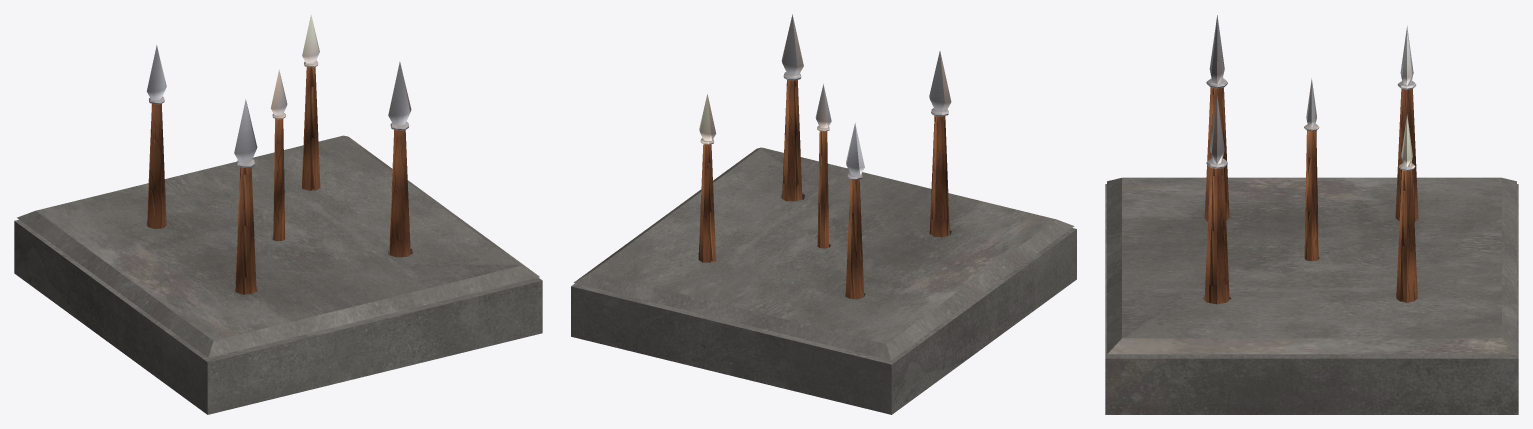
Rendered from Trap_2.fbx.
3 renders of one model, left to right at view 1: azimuth 30°, elevation 25°; view 2: azimuth 150°, elevation 25°; view 3: azimuth 270°, elevation 25°, orthographic. The views are drawn at different scales.
Parts seen in each view (by area): view 1: Box003, Object001; view 2: Box003, Object001; view 3: Box003, Object001.
Boxes of the visible parts, box(x1,y1,x2,y2) form: Box003: box(14, 135, 542, 414); Object001: box(146, 14, 411, 294); Box003: box(571, 147, 1076, 414); Object001: box(698, 14, 951, 299); Box003: box(1105, 177, 1518, 414); Object001: box(1204, 15, 1418, 304).
Size of the model in its own units: 46.59 by 34.01 by 46.59.
